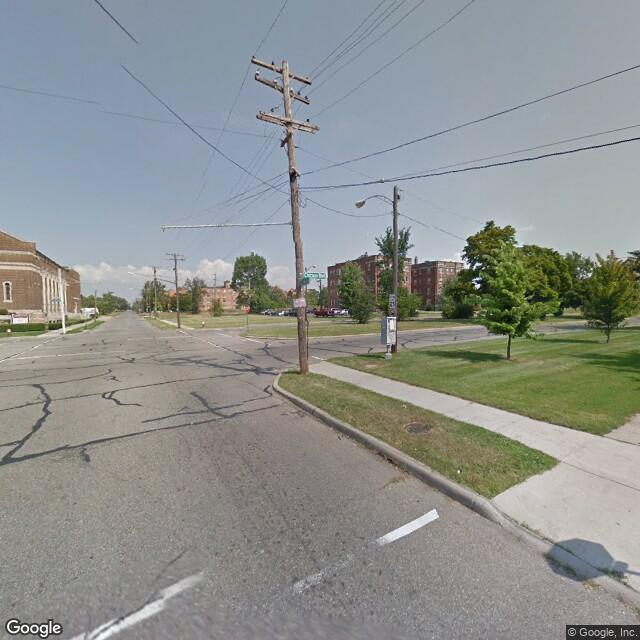litter: (456, 467, 465, 475)
